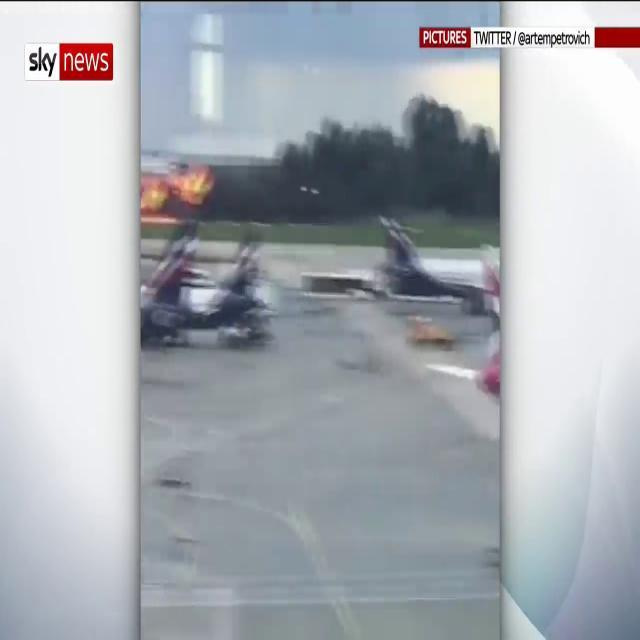Fire: (142, 166, 218, 217)
Smoke: (500, 8, 640, 632), (218, 89, 496, 217)
